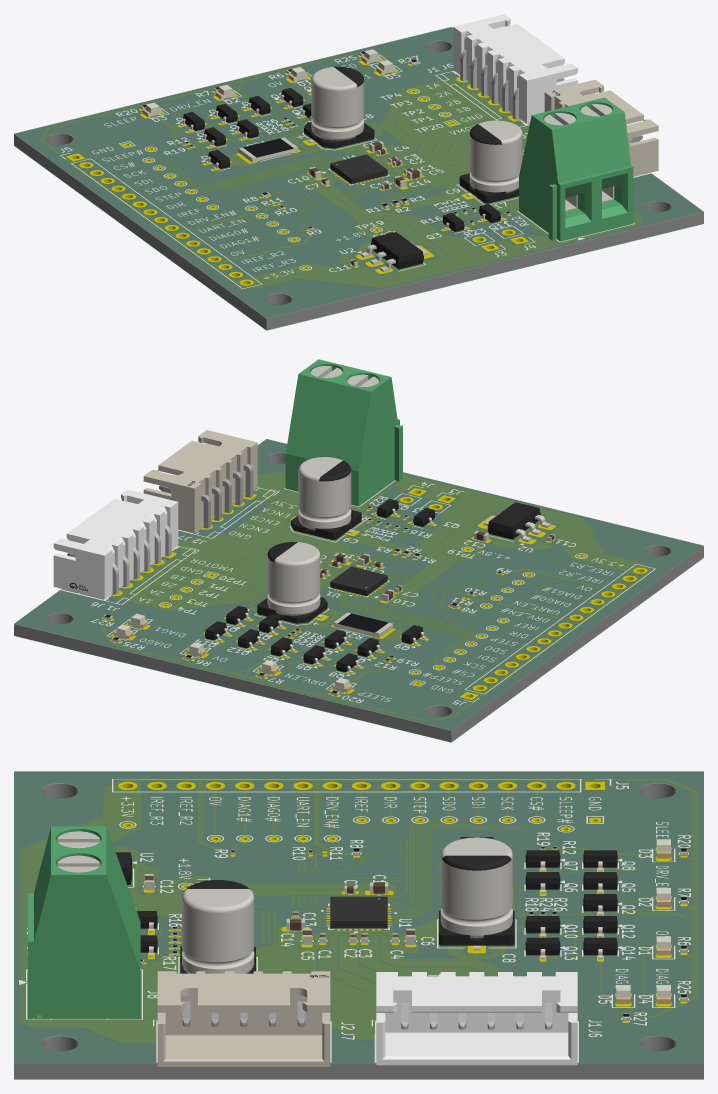
The model's file is tmc2240-breakout.glb.
3 renders of one model, top to bottom at view 1: azimuth 30°, elevation 25°; view 2: azimuth 150°, elevation 25°; view 3: azimuth 270°, elevation 25°, orthographic. The views are drawn at different scales.
Parts seen in each view (by area): view 1: =>[0:1:1:17], =>[0:1:1:18], =>[0:1:1:15], J8, J1, =>[0:1:1:16], C8, C9, J2, U2, U1, R21; view 2: =>[0:1:1:17], =>[0:1:1:18], =>[0:1:1:15], J8, J1, =>[0:1:1:16], J2, C9, C8, U2, U1, R21; view 3: =>[0:1:1:17], =>[0:1:1:18], =>[0:1:1:15], J8, J1, J2, =>[0:1:1:16], C8, C9, U1, Q13, Q14 (+7 smaller).
Boxes of the visible parts, left/top/right/bottom form: =>[0:1:1:17]: left=14, top=27, right=703, bottom=330; =>[0:1:1:18]: left=14, top=28, right=703, bottom=330; =>[0:1:1:15]: left=39, top=53, right=643, bottom=288; J8: left=519, top=97, right=633, bottom=241; J1: left=453, top=14, right=577, bottom=123; =>[0:1:1:16]: left=60, top=54, right=651, bottom=288; C8: left=304, top=66, right=374, bottom=148; C9: left=459, top=120, right=522, bottom=203; J2: left=544, top=79, right=658, bottom=176; U2: left=360, top=232, right=427, bottom=271; U1: left=330, top=154, right=387, bottom=183; R21: left=238, top=137, right=297, bottom=162; =>[0:1:1:17]: left=14, top=439, right=703, bottom=742; =>[0:1:1:18]: left=14, top=440, right=703, bottom=742; =>[0:1:1:15]: left=100, top=472, right=650, bottom=720; J8: left=285, top=359, right=402, bottom=506; J1: left=53, top=489, right=178, bottom=598; =>[0:1:1:16]: left=60, top=480, right=655, bottom=705; J2: left=143, top=430, right=257, bottom=533; C9: left=291, top=457, right=361, bottom=539; C8: left=257, top=542, right=327, bottom=623; U2: left=483, top=502, right=550, bottom=541; U1: left=330, top=566, right=387, bottom=595; R21: left=333, top=612, right=392, bottom=637; =>[0:1:1:17]: left=14, top=771, right=703, bottom=1079; =>[0:1:1:18]: left=14, top=772, right=703, bottom=1079; =>[0:1:1:15]: left=20, top=779, right=697, bottom=1042; J8: left=28, top=826, right=140, bottom=1018; J1: left=376, top=972, right=577, bottom=1065; J2: left=157, top=971, right=330, bottom=1066; =>[0:1:1:16]: left=19, top=779, right=691, bottom=1062; C8: left=439, top=837, right=514, bottom=950; C9: left=180, top=880, right=255, bottom=973; U1: left=330, top=896, right=387, bottom=928; Q13: left=525, top=937, right=560, bottom=959; Q14: left=583, top=937, right=617, bottom=959.
Bounding box in the file's own units: 0.061 × 0.0173 × 0.06.
